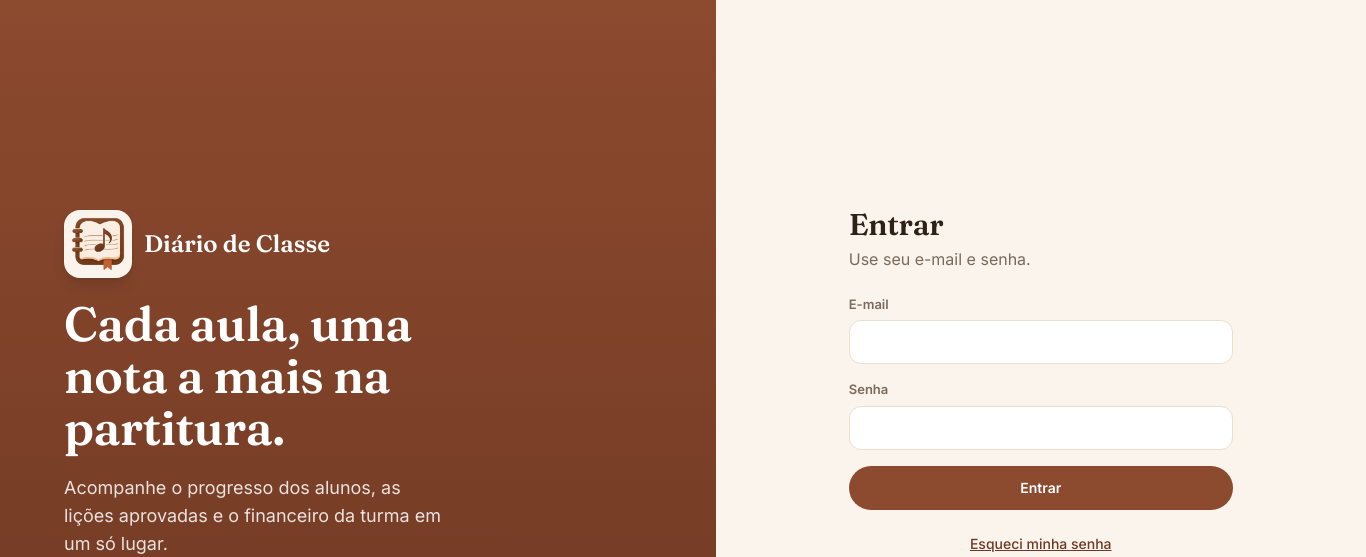
Test: Login › exibe a mensagem da API quando as credenciais são inválidas
Type "a@b.com" into the field labelled "E-mail" at [1041, 342], box [849,320,1233,364]
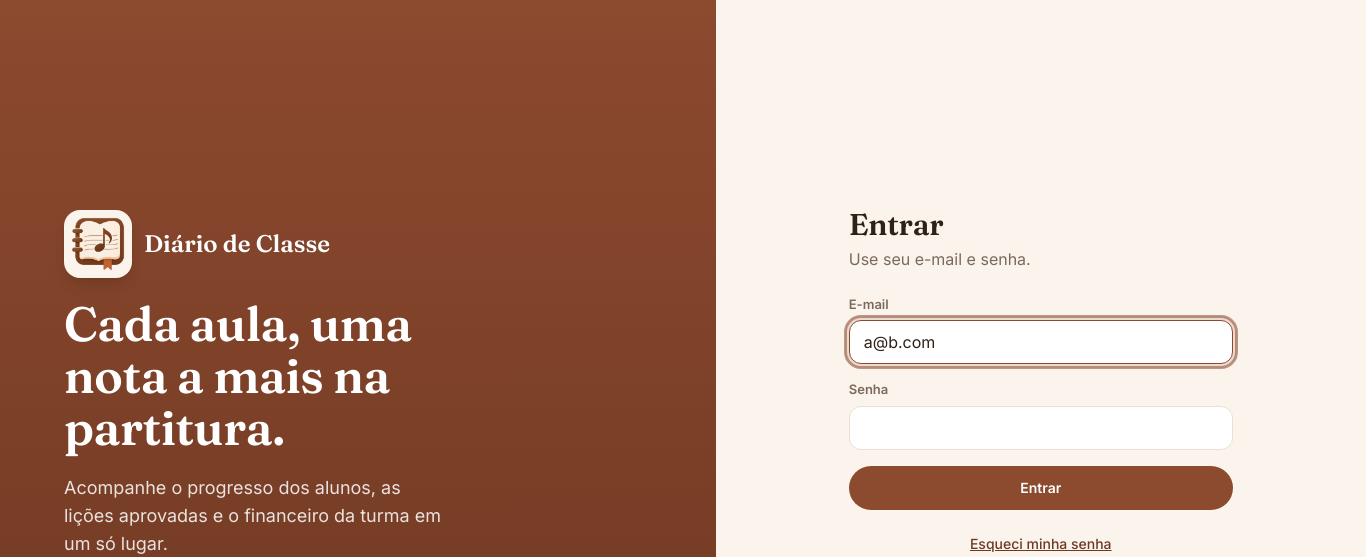
Type "errada123" into the password field labelled "Senha" at [1041, 428], box [849,406,1233,450]
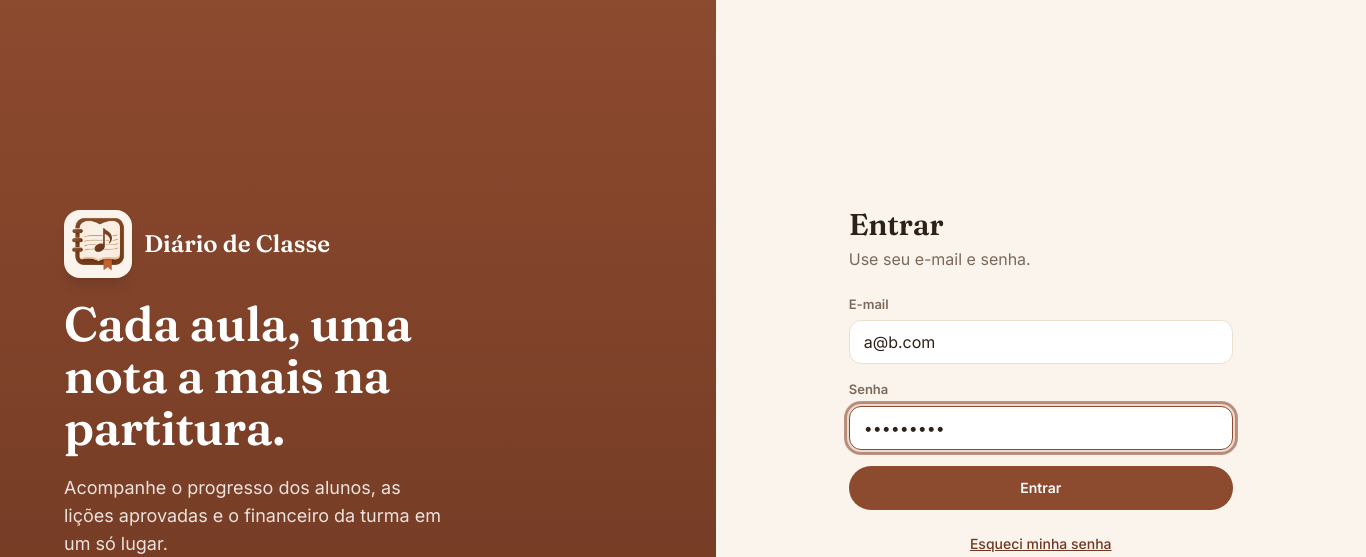
Click the button "Entrar" at [1041, 488], box [849,466,1233,510]
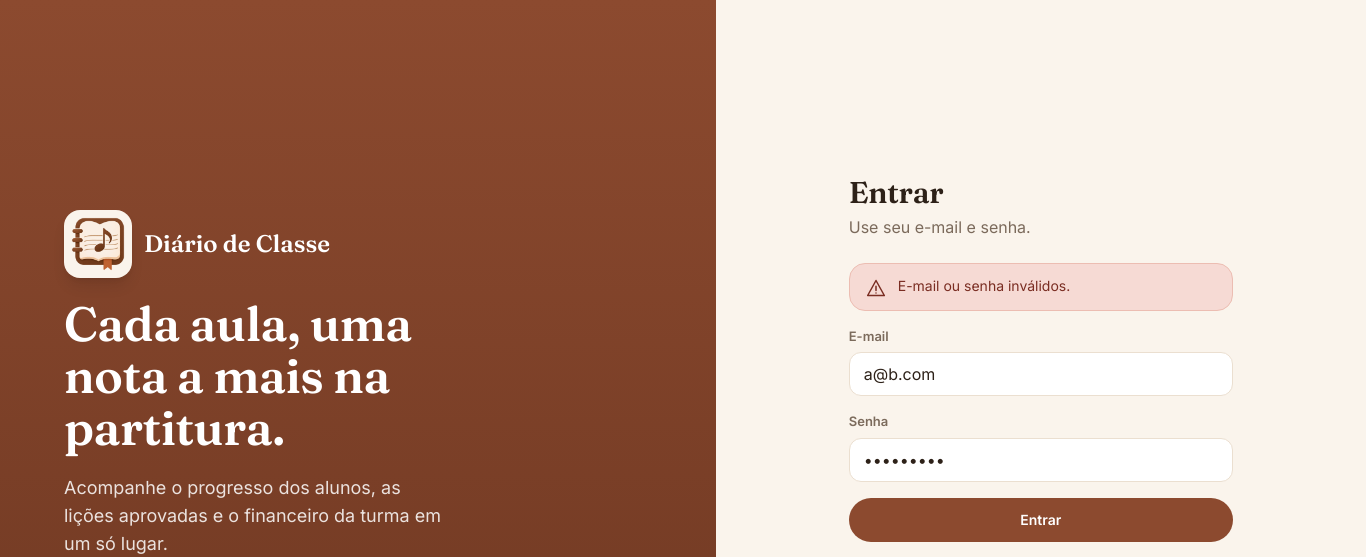
Check: the message reads "E-mail ou senha inválidos.", box [898,276,1070,294]
